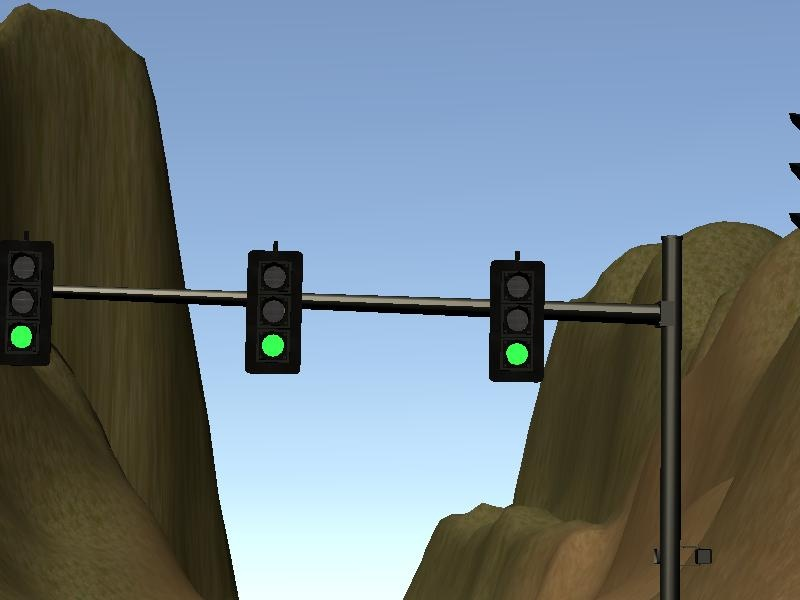GREEN: (246, 249, 302, 373), (489, 260, 544, 382), (1, 239, 53, 364)
